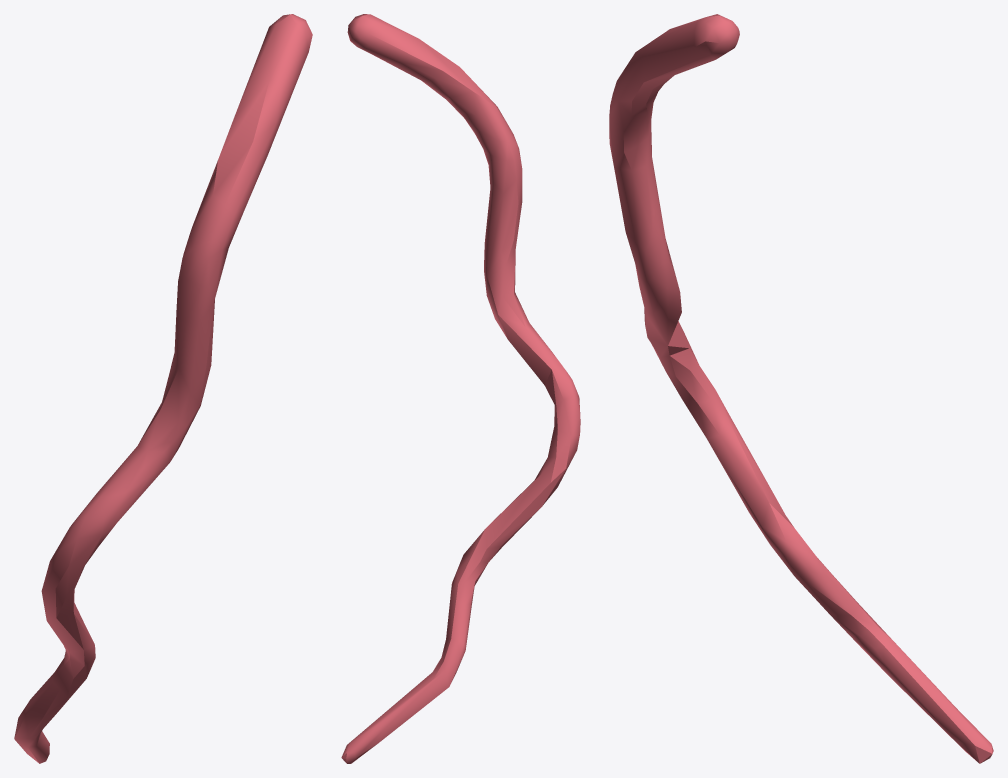
The model's file is fma3876_fj2641.glb.
3 views of the same model, side by side, from view 1: azimuth 30°, elevation 25°; view 2: azimuth 150°, elevation 25°; view 3: azimuth 270°, elevation 25° (orthographic). The views are drawn at different scales.
Parts seen in each view (by area): view 1: FMA3876_FJ2641; view 2: FMA3876_FJ2641; view 3: FMA3876_FJ2641.
Boxes of the visible parts, x1=… form: FMA3876_FJ2641: x1=14, y1=14, x2=312, y2=763; FMA3876_FJ2641: x1=341, y1=14, x2=580, y2=763; FMA3876_FJ2641: x1=609, y1=14, x2=993, y2=763.
Size of the model in its own units: 0.00836 by 0.0239 by 0.0104.
